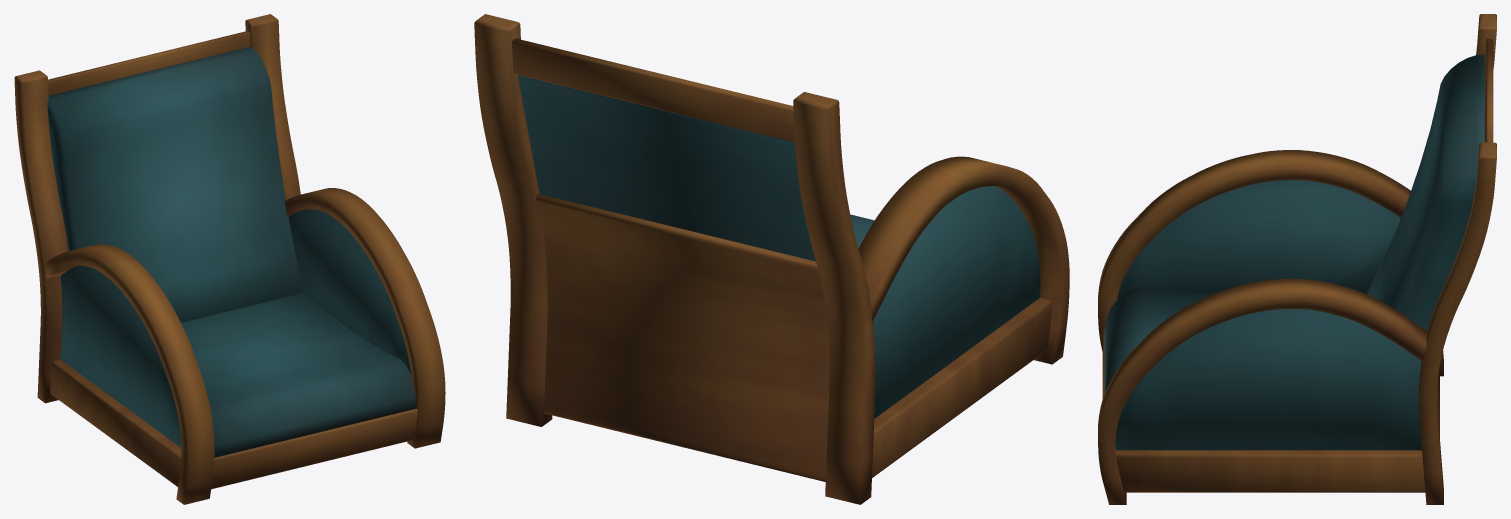
The model's file is 56_armchair.glb.
The picture shows the model from 3 angles, left to right: view 1: azimuth 30°, elevation 25°; view 2: azimuth 150°, elevation 25°; view 3: azimuth 270°, elevation 25°; orthographic projection. The views are drawn at different scales.
Visible parts, largest first — view 1: Cojin, madera, LateralDer; view 2: madera, Cojin, LateralDer; view 3: LateralDer, madera, Cojin.
Boxes of the visible parts, x1,y1,x2,y2 form: Cojin: (47, 46, 416, 457); madera: (14, 14, 445, 504); LateralDer: (60, 209, 410, 447); madera: (474, 14, 1069, 504); Cojin: (517, 75, 874, 261); LateralDer: (873, 186, 1040, 418); LateralDer: (1115, 180, 1421, 450); madera: (1098, 14, 1496, 504); Cojin: (1104, 54, 1484, 392).
Bounding box in the file's own units: 1.25 × 1.42 × 1.47.
Materials: 3 (3 with a texture image).
